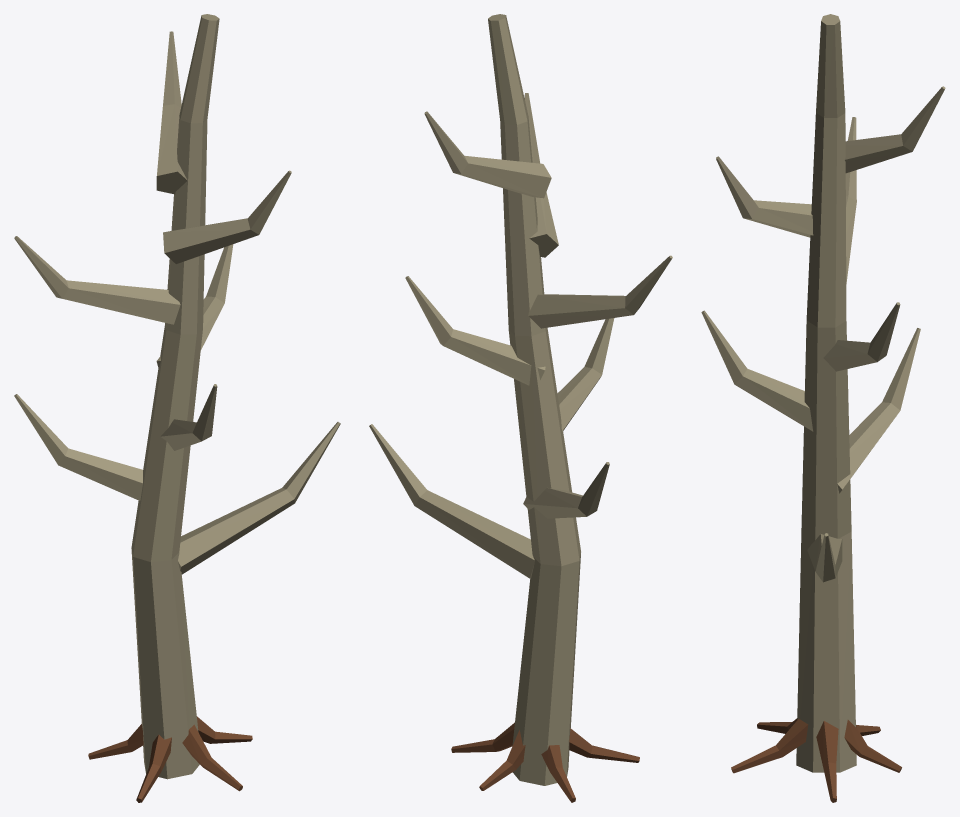
Rendered from Plant_Common_DeadSnag_001_LOD1.glb.
The picture shows the model from 3 angles, left to right: view 1: azimuth 30°, elevation 25°; view 2: azimuth 150°, elevation 25°; view 3: azimuth 270°, elevation 25°; orthographic projection. The views are drawn at different scales.
Parts seen in each view (by area): view 1: Plant_Common_DeadSnag_001_LOD1; view 2: Plant_Common_DeadSnag_001_LOD1; view 3: Plant_Common_DeadSnag_001_LOD1.
Part boxes in pixels (x1,y1,x2,y2): Plant_Common_DeadSnag_001_LOD1: [14, 14, 340, 802]; Plant_Common_DeadSnag_001_LOD1: [369, 14, 672, 802]; Plant_Common_DeadSnag_001_LOD1: [701, 14, 945, 802].
Size of the model in its own units: 2.71 by 6.13 by 1.77.
